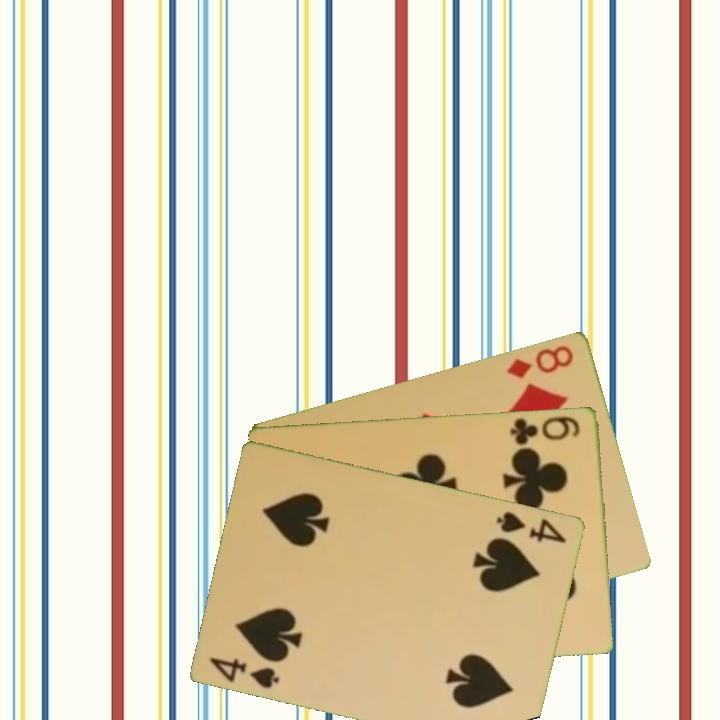4s: (493, 507, 570, 546), (206, 653, 283, 691)
6c: (507, 412, 583, 447)
8d: (503, 341, 577, 381)
